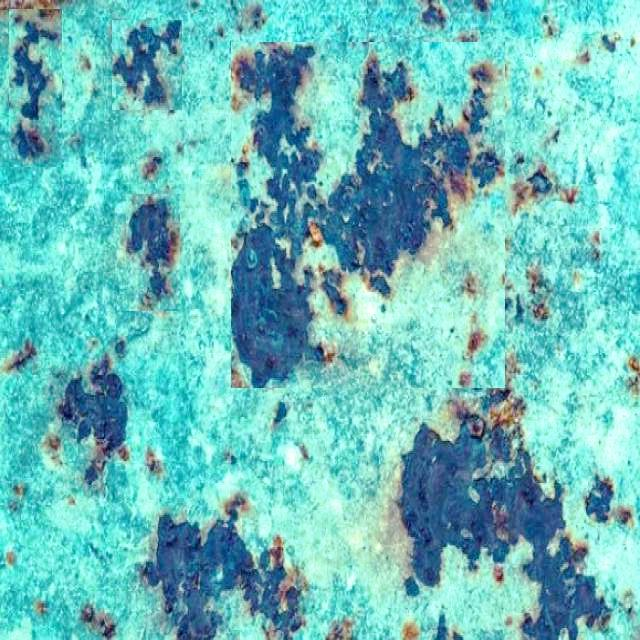Corrosion: (398, 390, 610, 640), (310, 56, 502, 280), (327, 54, 449, 281), (139, 497, 306, 640), (230, 210, 309, 388), (230, 42, 320, 194), (138, 515, 221, 640), (56, 354, 128, 488), (398, 424, 455, 588), (9, 9, 59, 160), (125, 196, 178, 310), (141, 515, 200, 614), (200, 495, 254, 594), (265, 175, 322, 264), (258, 537, 307, 640), (125, 22, 167, 106), (585, 475, 615, 524), (527, 164, 553, 198), (160, 19, 181, 54)
